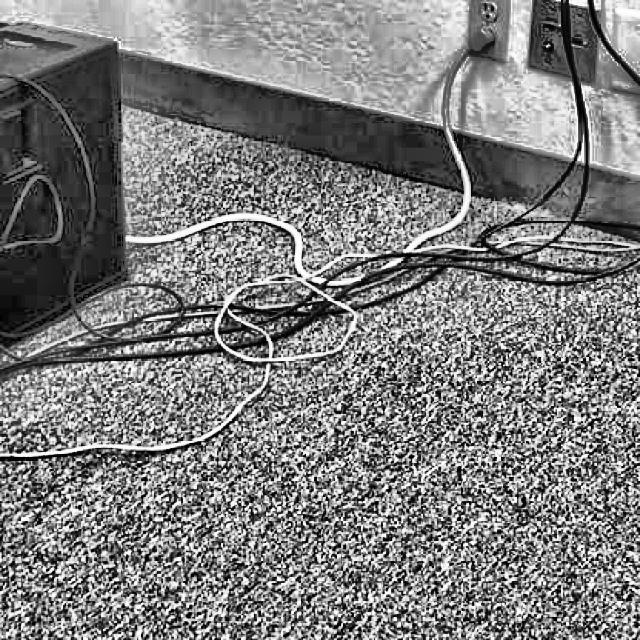Cable: (0, 212, 640, 452), (128, 27, 495, 288)
